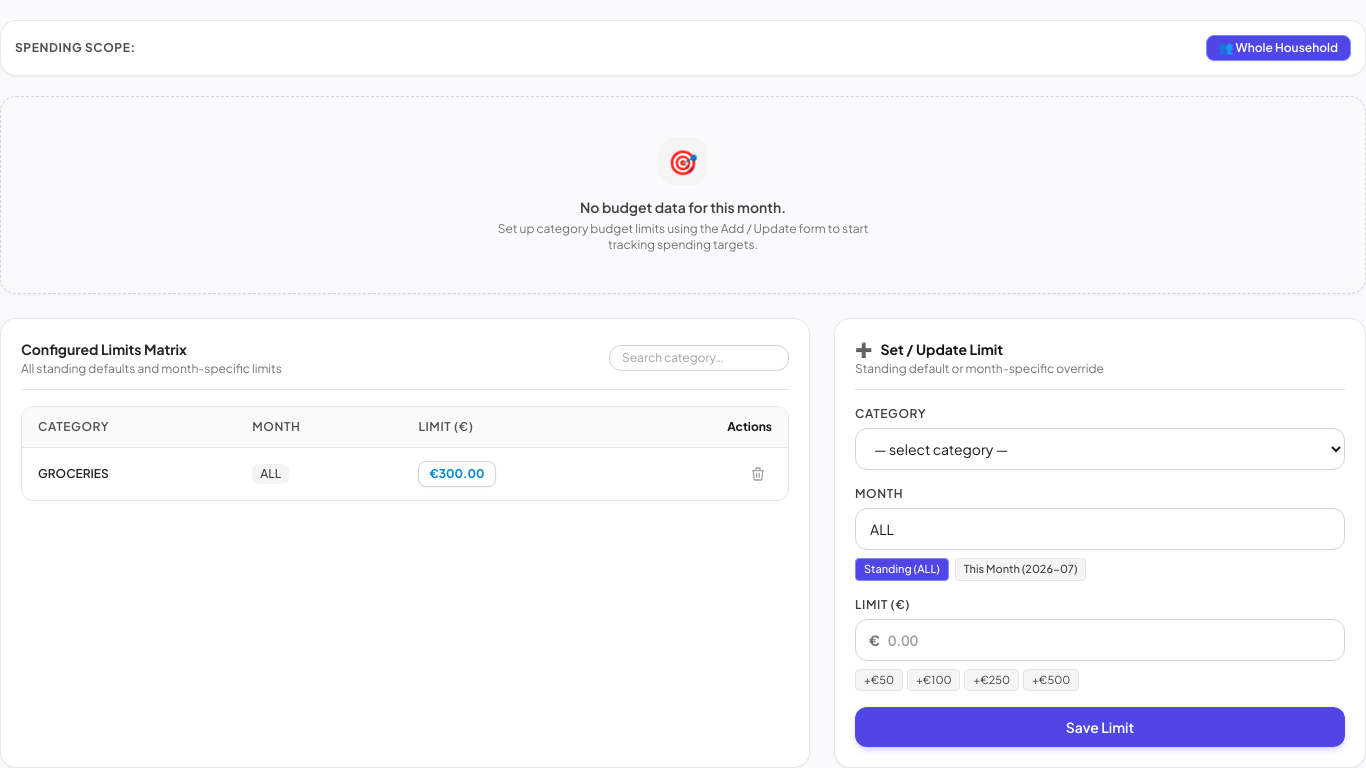
it: BudgetManager.svelte — Budget Limit Configuration › validates form submission when category or amount is missing/invalid
(page scrolled)
Click the button "Save Limit": (1100, 727) [855,707,1345,747]
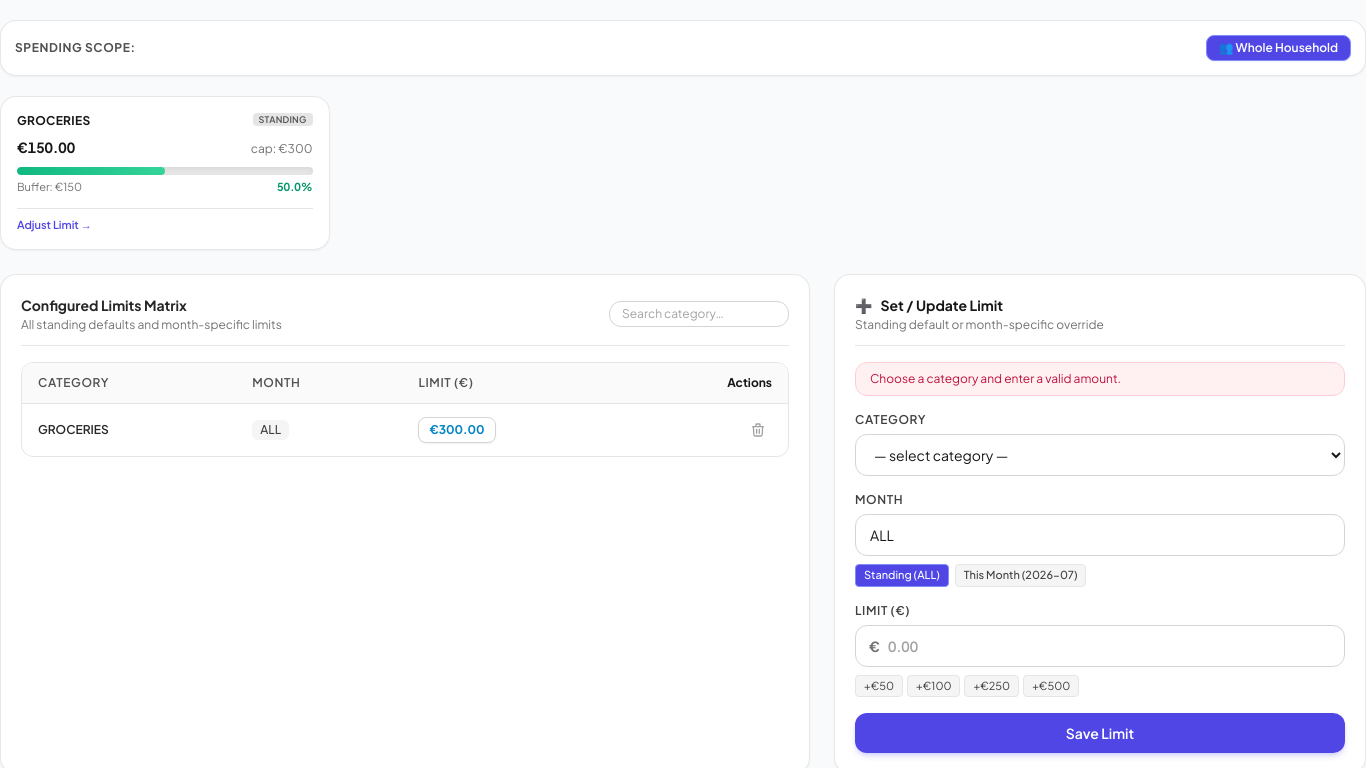
Check: the text "Choose a category and enter a valid amount." is shown, box [855,362,1345,396]
